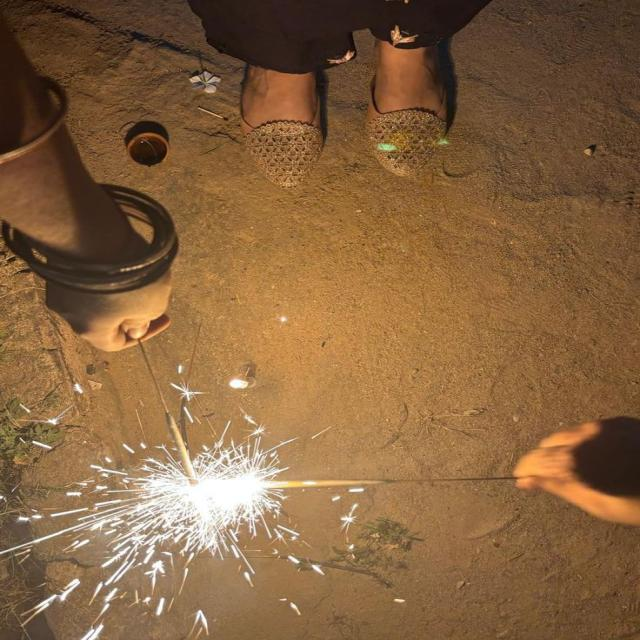fire: (146, 470, 266, 526)
